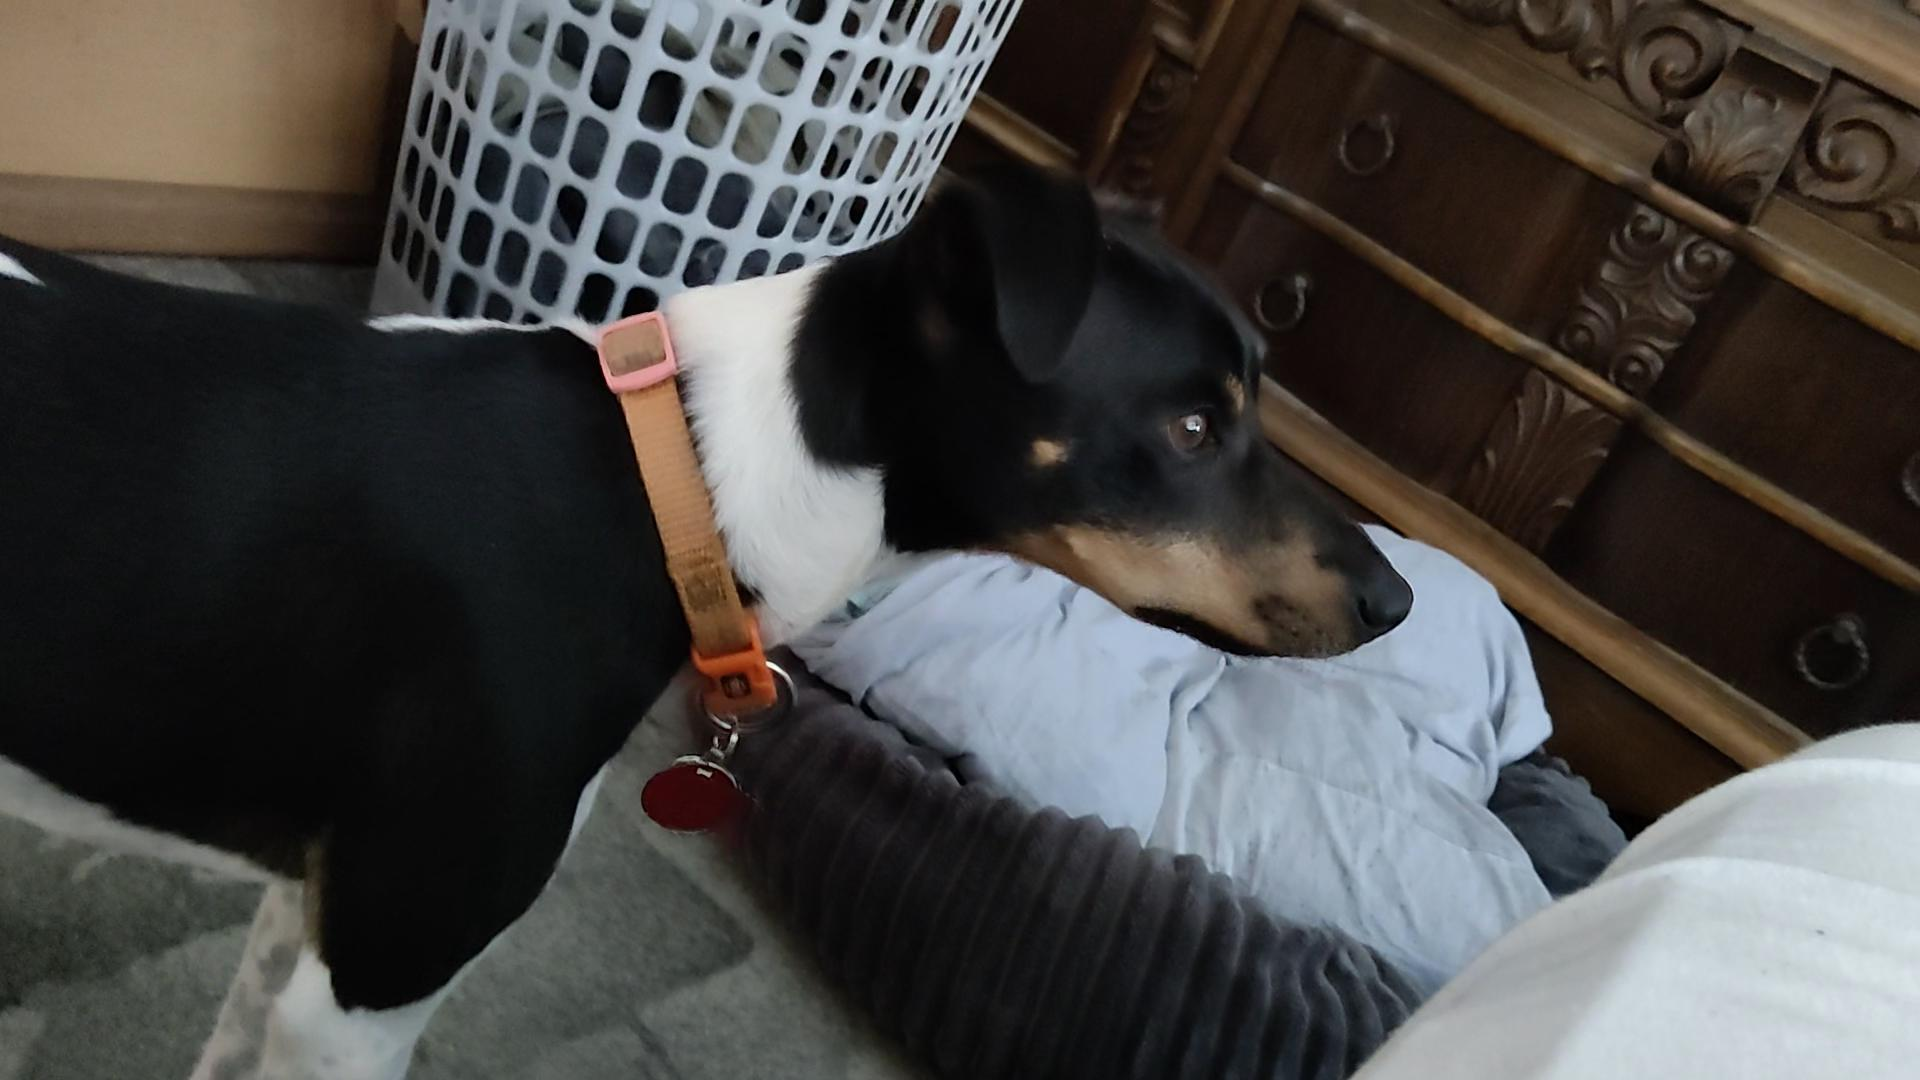Dog: (0, 148, 1425, 1079)
